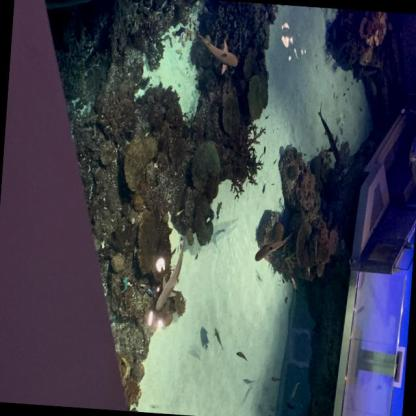fish: (211, 326, 226, 351), (288, 380, 300, 403), (214, 200, 223, 221), (288, 275, 298, 292), (235, 350, 249, 362), (121, 275, 128, 294), (146, 286, 156, 298), (303, 266, 312, 278), (278, 274, 286, 285), (109, 314, 116, 326), (270, 376, 283, 382), (262, 144, 266, 156), (272, 157, 278, 165), (262, 182, 266, 193), (264, 113, 270, 120), (139, 284, 148, 288), (343, 92, 345, 97)
shark: (154, 236, 185, 312), (312, 99, 346, 166), (190, 32, 240, 74), (254, 228, 294, 265)
